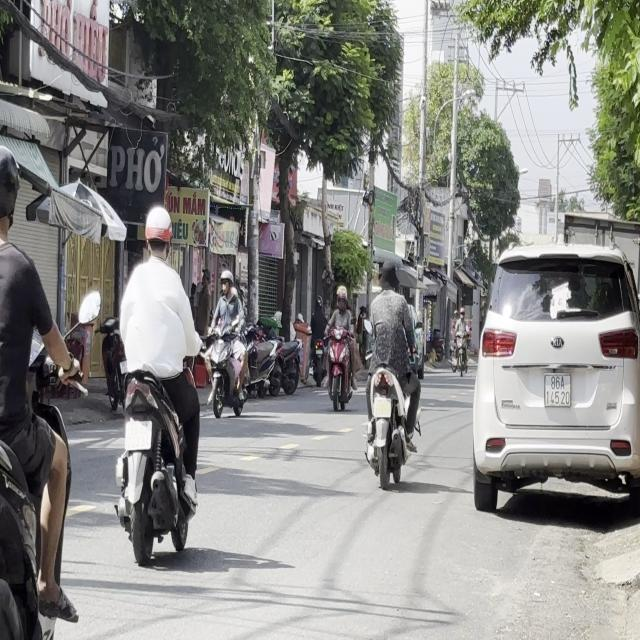helmet: (0, 143, 20, 241), (142, 204, 173, 260)
licenseplate: (0, 143, 81, 634), (112, 202, 205, 562), (360, 254, 422, 486)
motorcyclist: (378, 256, 398, 290)
nohelmet: (125, 420, 151, 448), (373, 397, 391, 417)
